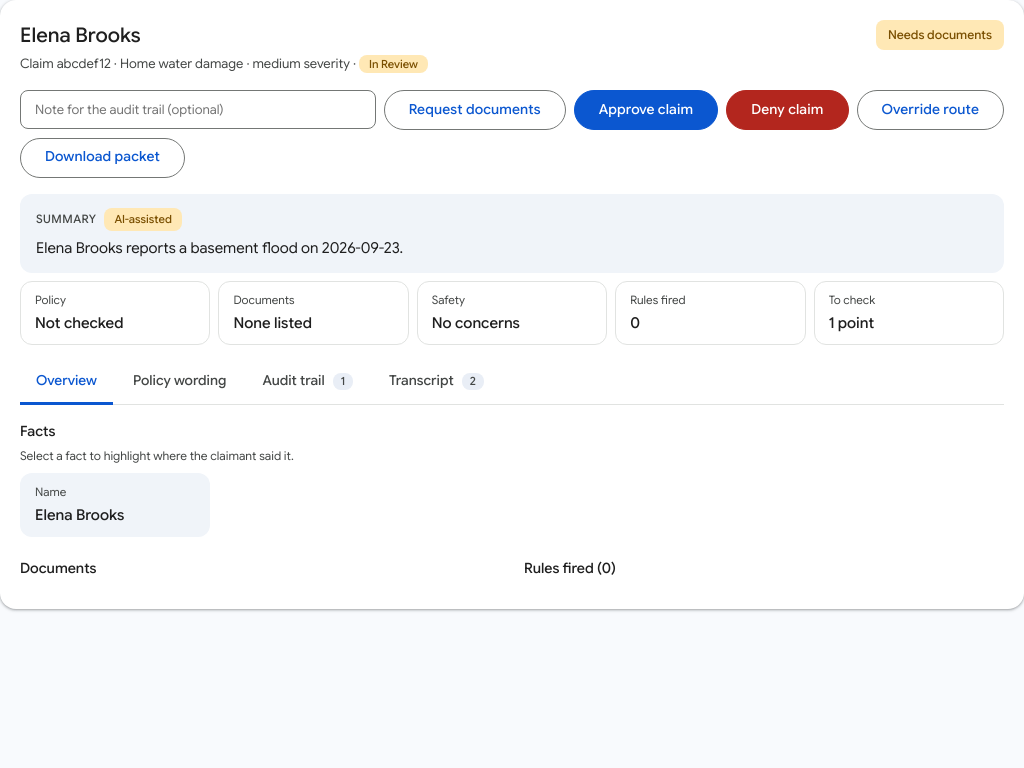
Scenario: ClaimDetailView › requires a reason before a claim can be approved
Click the button "Approve claim".
click(646, 110)  # box [574, 90, 718, 130]
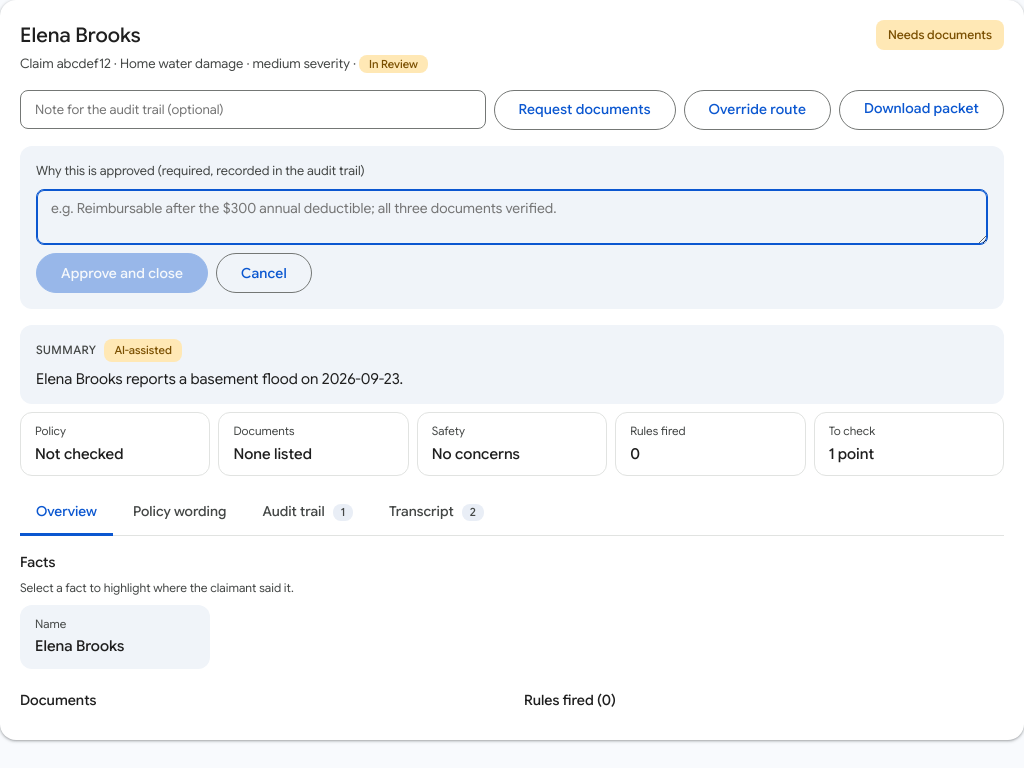
Now the button "Approve and close" is disabled, box [36, 253, 208, 293]
Replace the text in the text box labelled "Why this is approved (required, recorded in the audit trail)" with "Reimbursable after the $300 deductible." at (512, 217), box [36, 189, 988, 245]
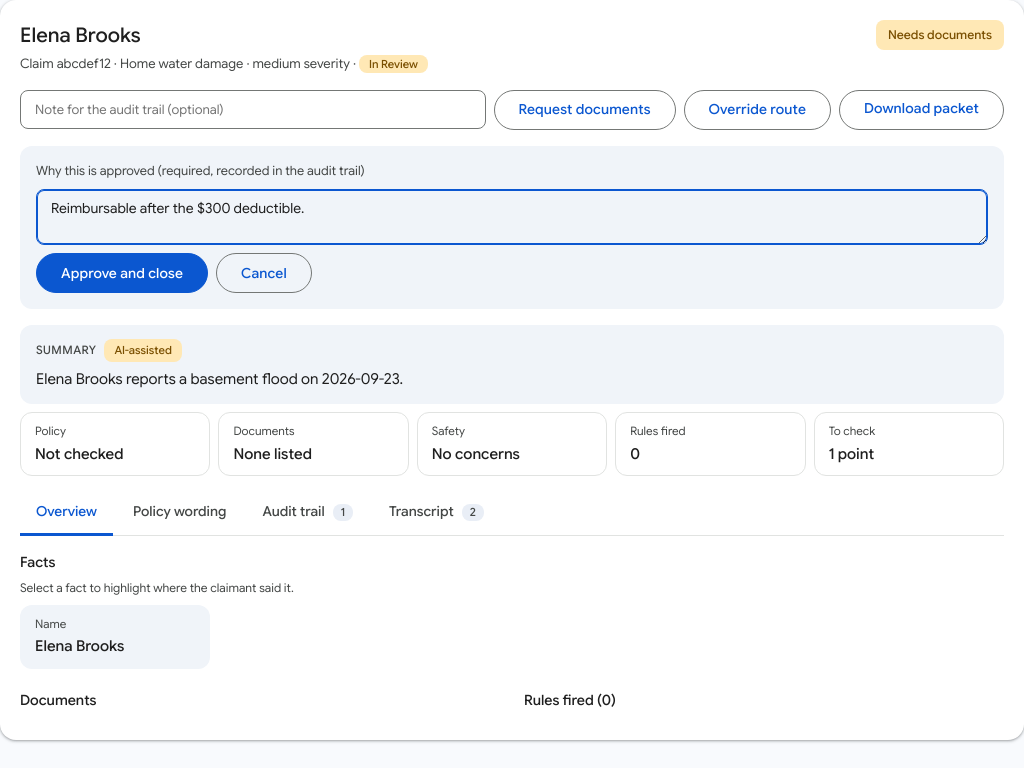
Now the button "Approve and close" is enabled, box [36, 253, 208, 293]
